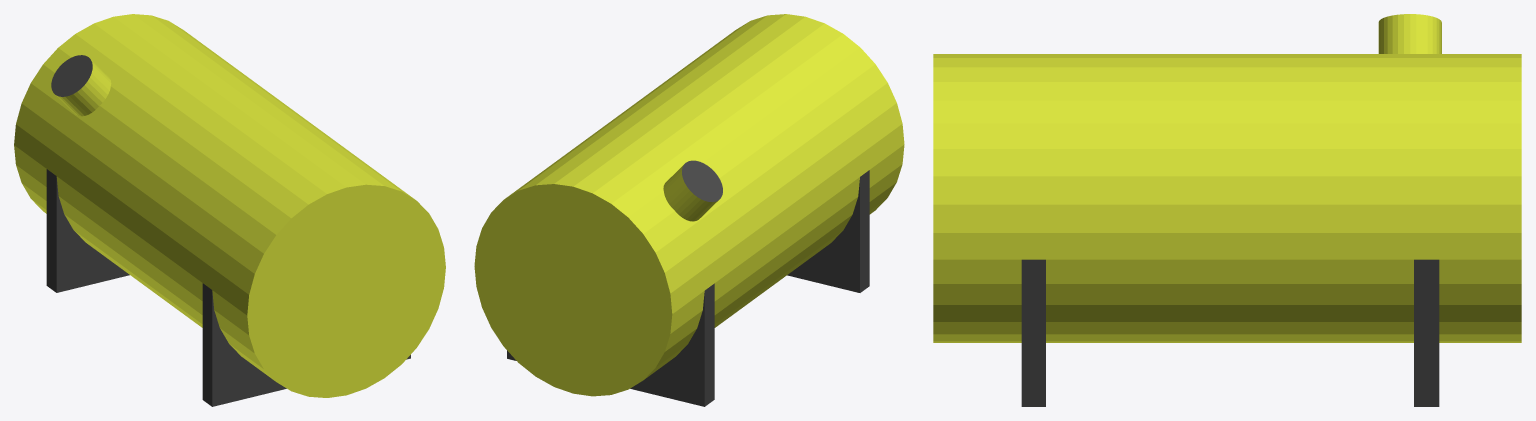
The model's file is fueltank.glb.
3 views of the same model, side by side, from view 1: azimuth 30°, elevation 25°; view 2: azimuth 150°, elevation 25°; view 3: azimuth 270°, elevation 25° (orthographic). The views are drawn at different scales.
Parts seen in each view (by area): view 1: Cylinder, Cylinder.001; view 2: Cylinder, Cylinder.001; view 3: Cylinder, Cylinder.001.
Part boxes in pixels (box(x1,y1,x2,y2)): Cylinder: box(14, 14, 445, 406); Cylinder.001: box(51, 55, 111, 116); Cylinder: box(474, 14, 904, 406); Cylinder.001: box(663, 160, 722, 221); Cylinder: box(933, 54, 1521, 406); Cylinder.001: box(1378, 14, 1441, 53).
Size of the model in its own units: 1.45 by 1.58 by 2.92.
